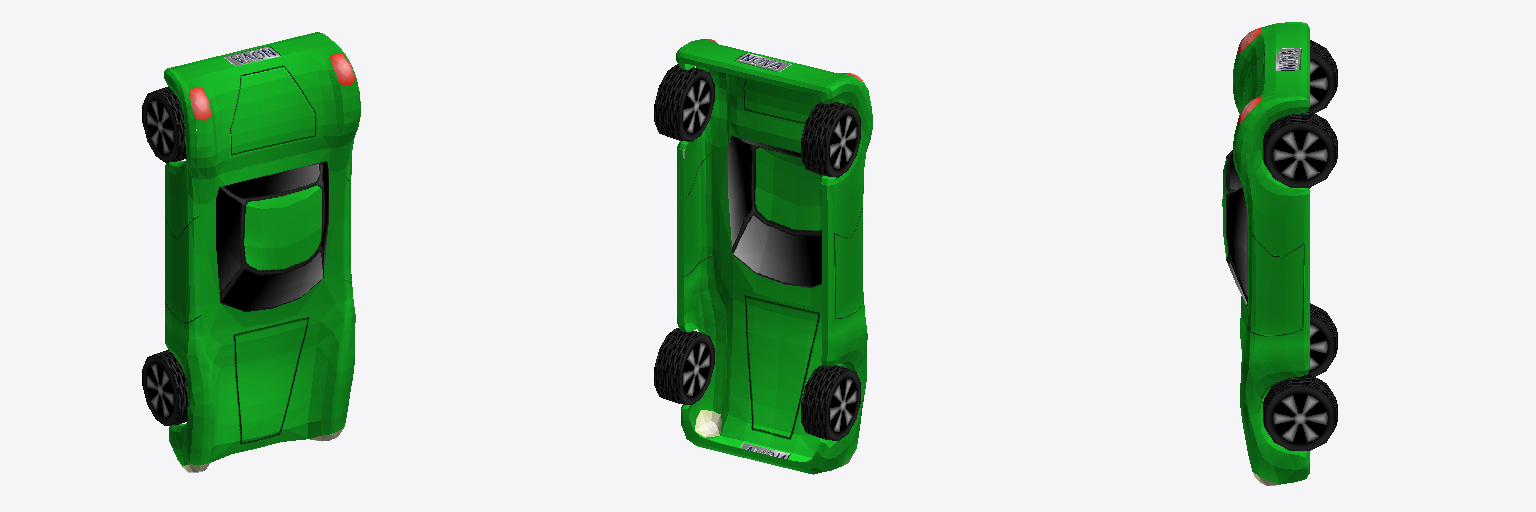
3 renders of one model, left to right at view 1: azimuth 30°, elevation 25°; view 2: azimuth 150°, elevation 25°; view 3: azimuth 270°, elevation 25°, orthographic.
Visible parts, largest first — view 1: Car_Plane; view 2: Car_Plane; view 3: Car_Plane.
Boxes of the visible parts, x1,y1,x2,y2 form: Car_Plane: [142, 32, 360, 472]; Car_Plane: [654, 39, 872, 474]; Car_Plane: [1222, 22, 1337, 485].
Bounding box in the file's own units: 2.94 × 6.42 × 1.7.
Materials: 2 (2 with a texture image).